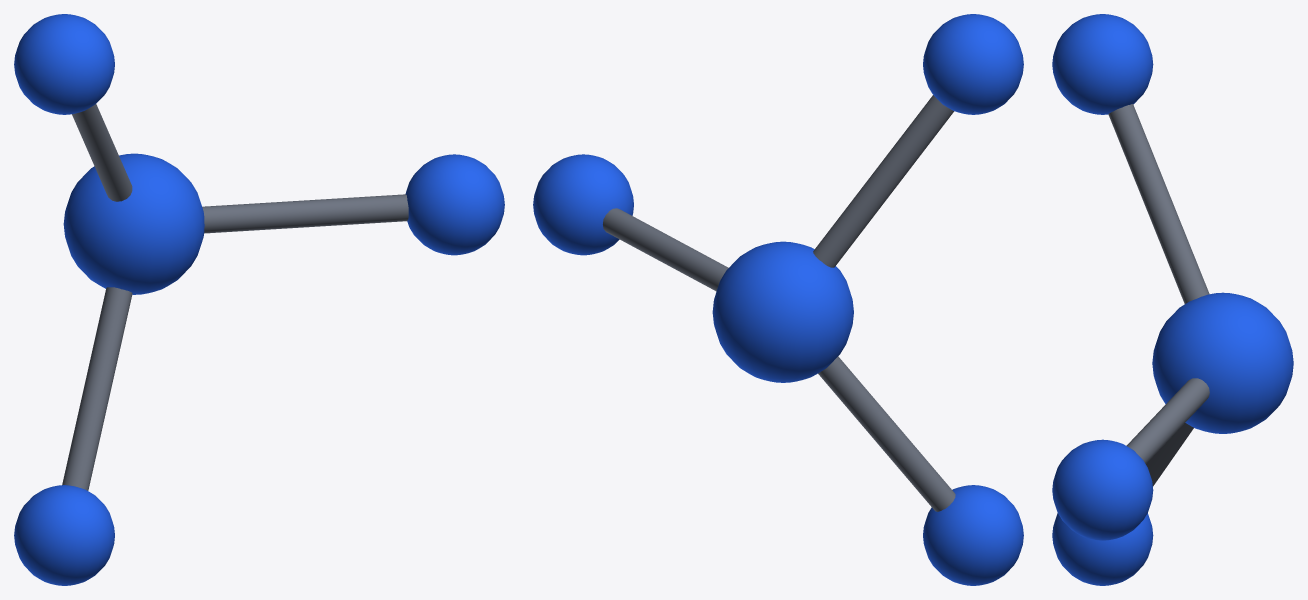
3 views of the same model, side by side, from view 1: azimuth 30°, elevation 25°; view 2: azimuth 150°, elevation 25°; view 3: azimuth 270°, elevation 25° (orthographic).
Visible parts, largest first — view 1: N1, H2, H3, H1, object 5, object 7, object 6; view 2: N1, H2, H3, H1, object 6, object 7, object 5; view 3: N1, H1, H2, object 6, H3, object 5, object 7.
Part boxes in pixels (<box>): N1: <box>63,153,204,294</box>; H2: <box>14,14,114,114</box>; H3: <box>14,485,114,585</box>; H1: <box>405,154,504,255</box>; object 5: <box>202,194,408,233</box>; object 7: <box>62,287,132,490</box>; object 6: <box>72,104,132,201</box>; N1: <box>712,241,853,382</box>; H2: <box>923,14,1023,114</box>; H3: <box>923,485,1023,585</box>; H1: <box>533,154,633,255</box>; object 6: <box>813,95,954,267</box>; object 7: <box>818,356,955,511</box>; object 5: <box>603,208,728,291</box>; N1: <box>1152,292,1293,433</box>; H1: <box>1052,439,1153,540</box>; H2: <box>1052,14,1153,114</box>; object 6: <box>1108,104,1209,303</box>; H3: <box>1052,513,1153,585</box>; object 5: <box>1126,378,1209,463</box>; object 7: <box>1146,423,1193,486</box>.
Bounding box in the file's own units: 0.3273 × 0.3687 × 0.1434.
